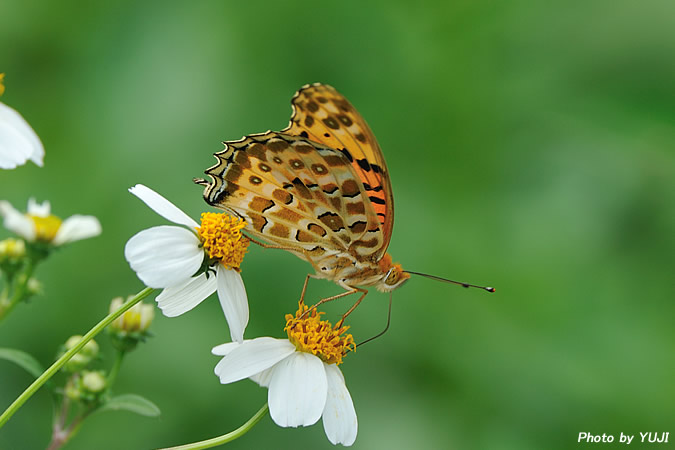Argyreus hyperbius: (187, 71, 506, 358)
butterfly: (185, 69, 504, 356)
